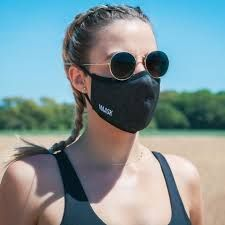with-mask: (69, 19, 171, 143)
